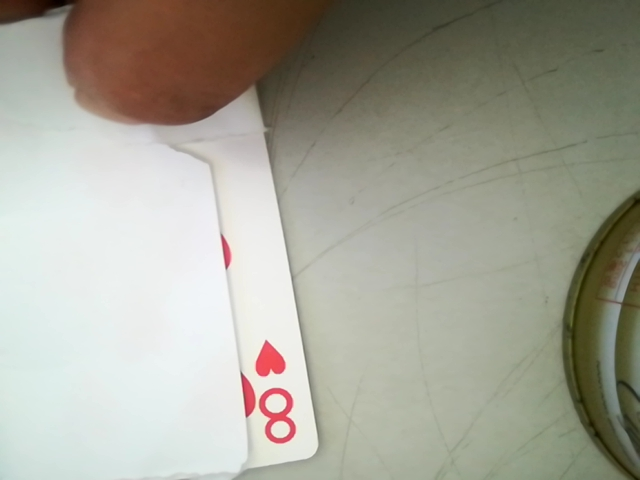hx 8: (222, 330, 305, 454)
